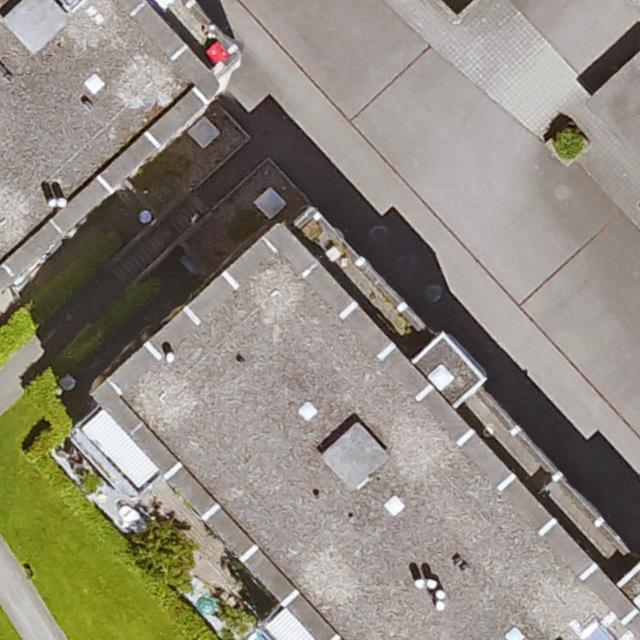tree: (125, 518, 195, 591), (552, 129, 586, 163)
